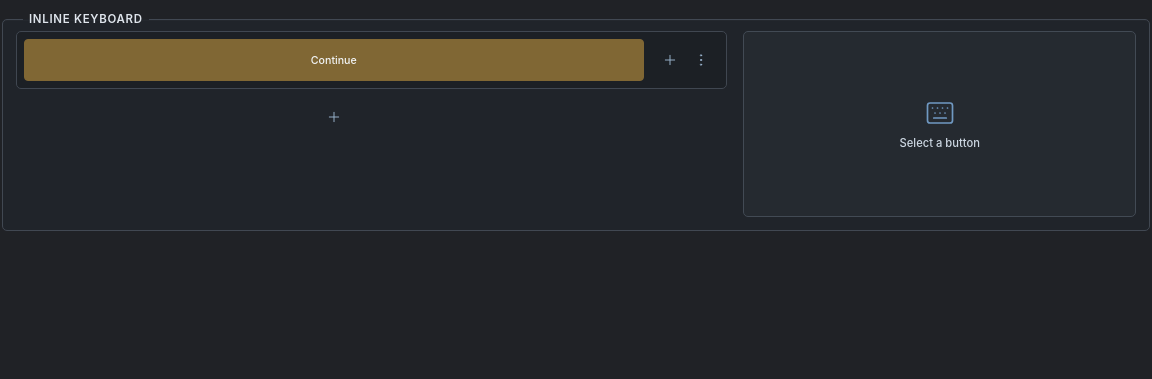
Test: KeyboardComposer › offers only actions supported by buttons inside a view
Click the button "Continue": (334, 60) [24,39,644,81]
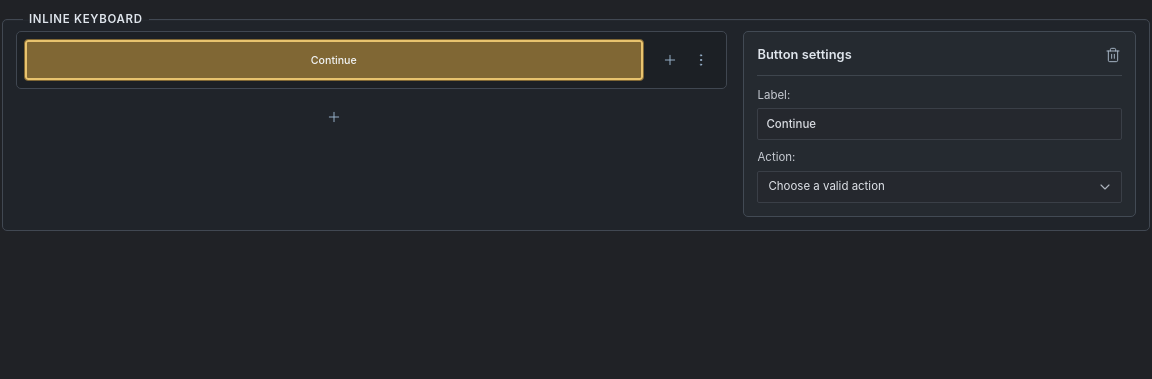
Click the dropdown labelled "action": (827, 186) [758,171,1122,203]
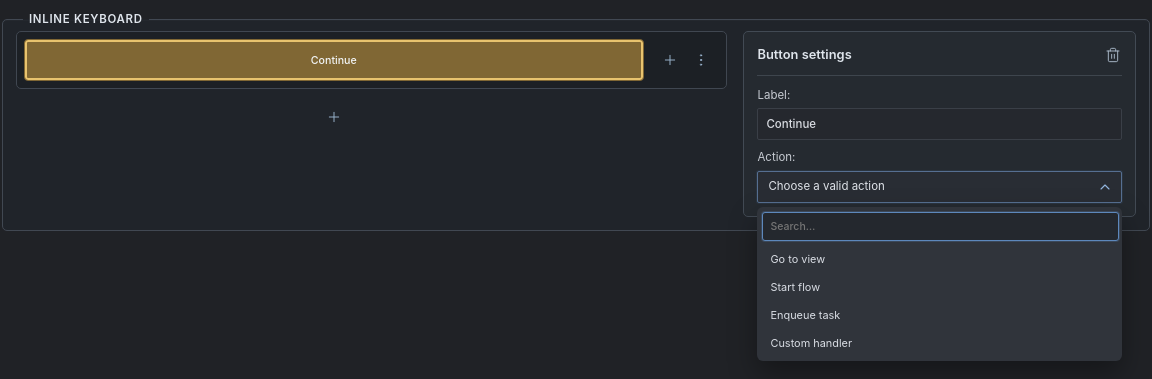
Now the options read "Go to view", "Start flow", "Enqueue task", "Custom handler", in this order, box [762,245,1118,273]; [762,273,1118,301]; [762,301,1118,329]; [762,329,1118,357]
